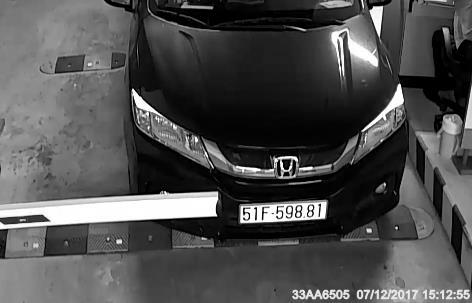License-plate: (237, 190, 332, 234)
